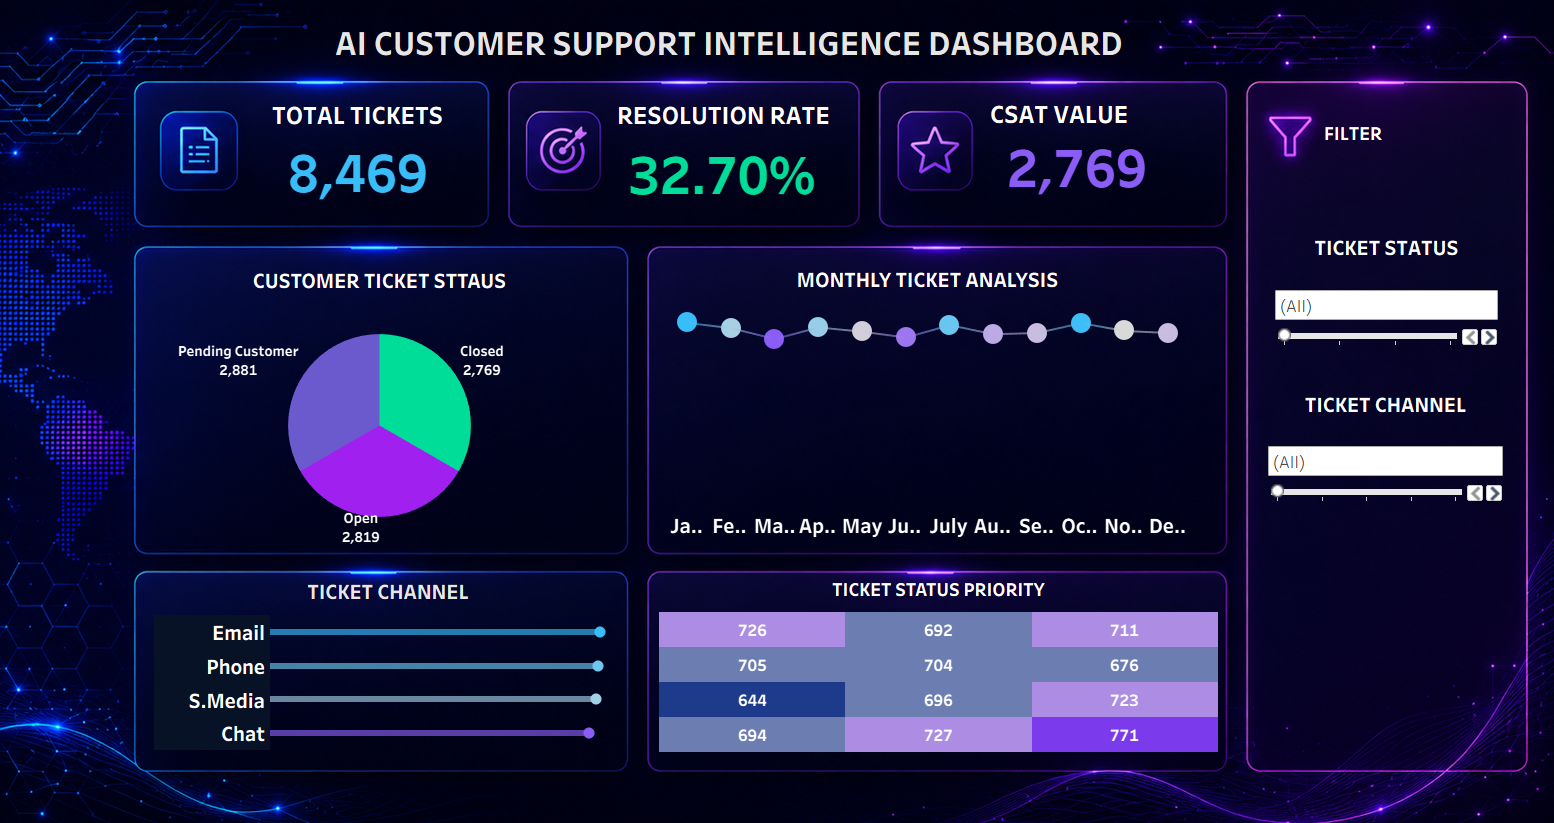

The dashboard page shown, as its layout file describes it:
{"tool":"tableau","page":{"name":"Exective Dashboard","canvas":[1000,1000],"units":"permille","ordinal":1},"visuals":[{"type":"image","param":"C:/Users/Hassan - Work/Desktop/customerdashbaord_1630x866.png","box":[5,9.2,990,981.5]},{"type":"text","box":[201.8,34.6,541.7,61.2]},{"type":"text","box":[184.5,122.4,128.8,50.8]},{"type":"text","box":[633.7,128.2,128.8,38.1]},{"type":"text","box":[400,129.3,135.6,38.1]},{"type":"text","box":[842.4,144.3,110.1,49.6]},{"type":"worksheet","title":"CSAT","mark":"Automatic","box":[618.4,147.8,143.6,120.1]},{"type":"worksheet","title":"Total Tickets","mark":"Automatic","box":[168.1,159.3,144.8,108.5]},{"type":"worksheet","title":"Resolution Rate","mark":"Automatic","box":[396.3,161.7,143.6,107.4]},{"type":"filter","title":"Total Tickets","param":"[federated.0f0wlw01rlkplj13ylz9h1a8ayd3].[none:Ticket Status:nk]","box":[812.3,257.5,143.4,169.8]},{"type":"worksheet","title":"Monthly Ticket Analysis","mark":"Automatic","rows":["Ticket ID","Ticket ID"],"cols":["Date of Purchase"],"box":[430.1,312.9,333.1,332.6]},{"type":"worksheet","title":"Customer Ticket Status ","mark":"Pie","box":[107.4,314.1,293.2,338.3]},{"type":"filter","title":"Total Tickets","param":"[federated.0f0wlw01rlkplj13ylz9h1a8ayd3].[none:Ticket Channel:nk]","box":[808.2,466.5,150.6,226.3]},{"type":"worksheet","title":"Ticket Status Priority","mark":"Square","rows":["Ticket Priority"],"cols":["Ticket Status"],"box":[426.6,672.1,354.4,217.1]},{"type":"worksheet","title":"Ticket Channel","mark":"Automatic","rows":["Ticket Channel"],"cols":["Ticket ID","Ticket ID"],"box":[110.8,673.2,297.5,213.6]}]}

Visuals, with their boxes on the dashboard's canvas, which has no fixed pixel size, in thousandths of its width and height (x1, y1, x2, y2). These are canvas units, not pixel positions in the 1554x823 screenshot, which may show the page scaled, cropped or inside an application window:
image: <box>5,9,995,991</box>
text: <box>202,35,744,96</box>
text: <box>184,122,313,173</box>
text: <box>634,128,762,166</box>
text: <box>400,129,536,167</box>
text: <box>842,144,952,194</box>
"CSAT" worksheet: <box>618,148,762,268</box>
"Total Tickets" worksheet: <box>168,159,313,268</box>
"Resolution Rate" worksheet: <box>396,162,540,269</box>
"Total Tickets" filter: <box>812,258,956,427</box>
"Monthly Ticket Analysis" worksheet: <box>430,313,763,646</box>
"Customer Ticket Status " worksheet (Pie marks): <box>107,314,401,652</box>
"Total Tickets" filter: <box>808,466,959,693</box>
"Ticket Status Priority" worksheet (Square marks): <box>427,672,781,889</box>
"Ticket Channel" worksheet: <box>111,673,408,887</box>
